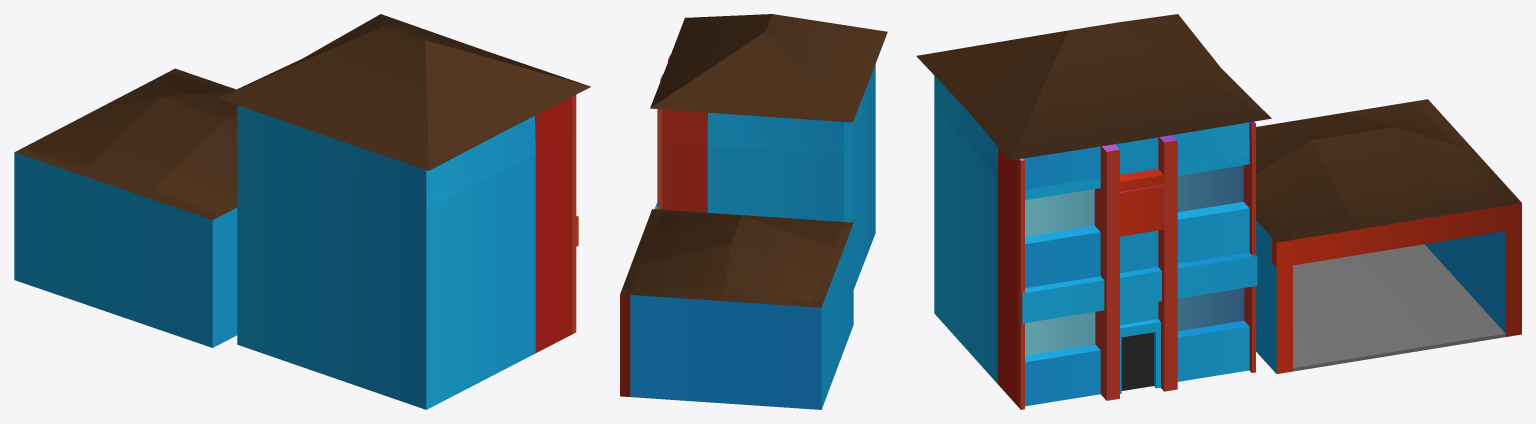
The model's file is pemadam.fbx.
3 views of the same model, side by side, from view 1: azimuth 30°, elevation 25°; view 2: azimuth 150°, elevation 25°; view 3: azimuth 270°, elevation 25° (orthographic). The views are drawn at different scales.
Parts seen in each view (by area): view 1: Cube.163, Cube.162; view 2: Cube.163, Cube.162; view 3: Cube.163, Cube.162.
Boxes of the visible parts, x1,y1,x2,y2 form: Cube.163: [218, 14, 590, 409]; Cube.162: [14, 68, 237, 347]; Cube.163: [650, 14, 887, 289]; Cube.162: [620, 209, 853, 409]; Cube.163: [916, 14, 1271, 409]; Cube.162: [1256, 99, 1521, 373].
Bounding box in the file's own units: 3024 × 2394 × 4121.
